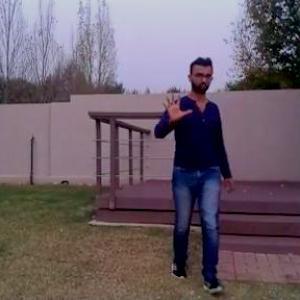follow_hand: (158, 84, 193, 124)
